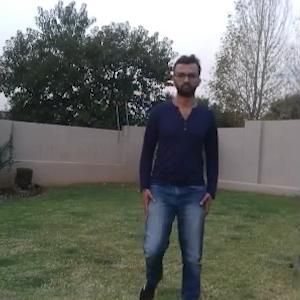follow: (149, 74, 212, 293)
